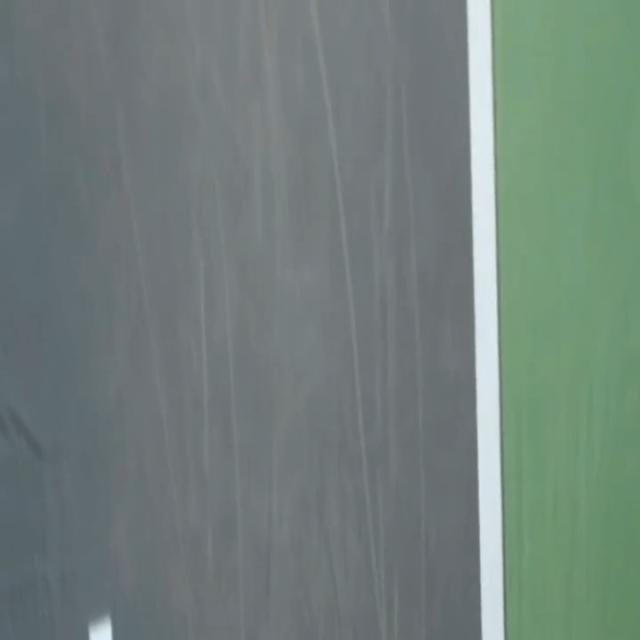center: (89, 614, 113, 639)
right: (466, 0, 504, 639)
